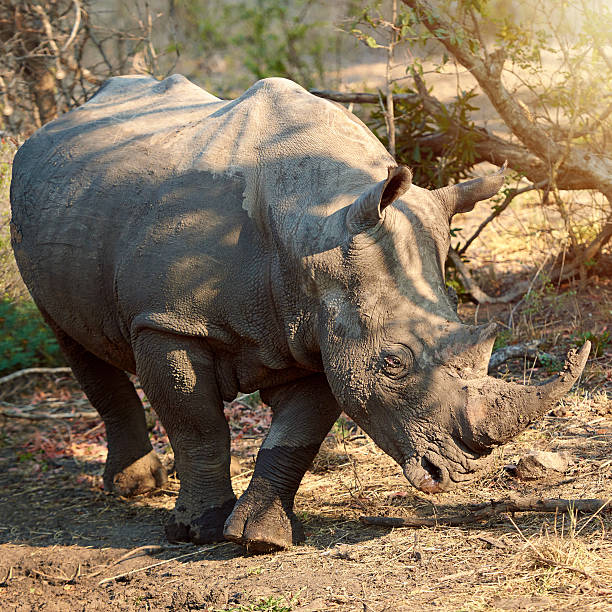rhino: (295, 150, 612, 493)
